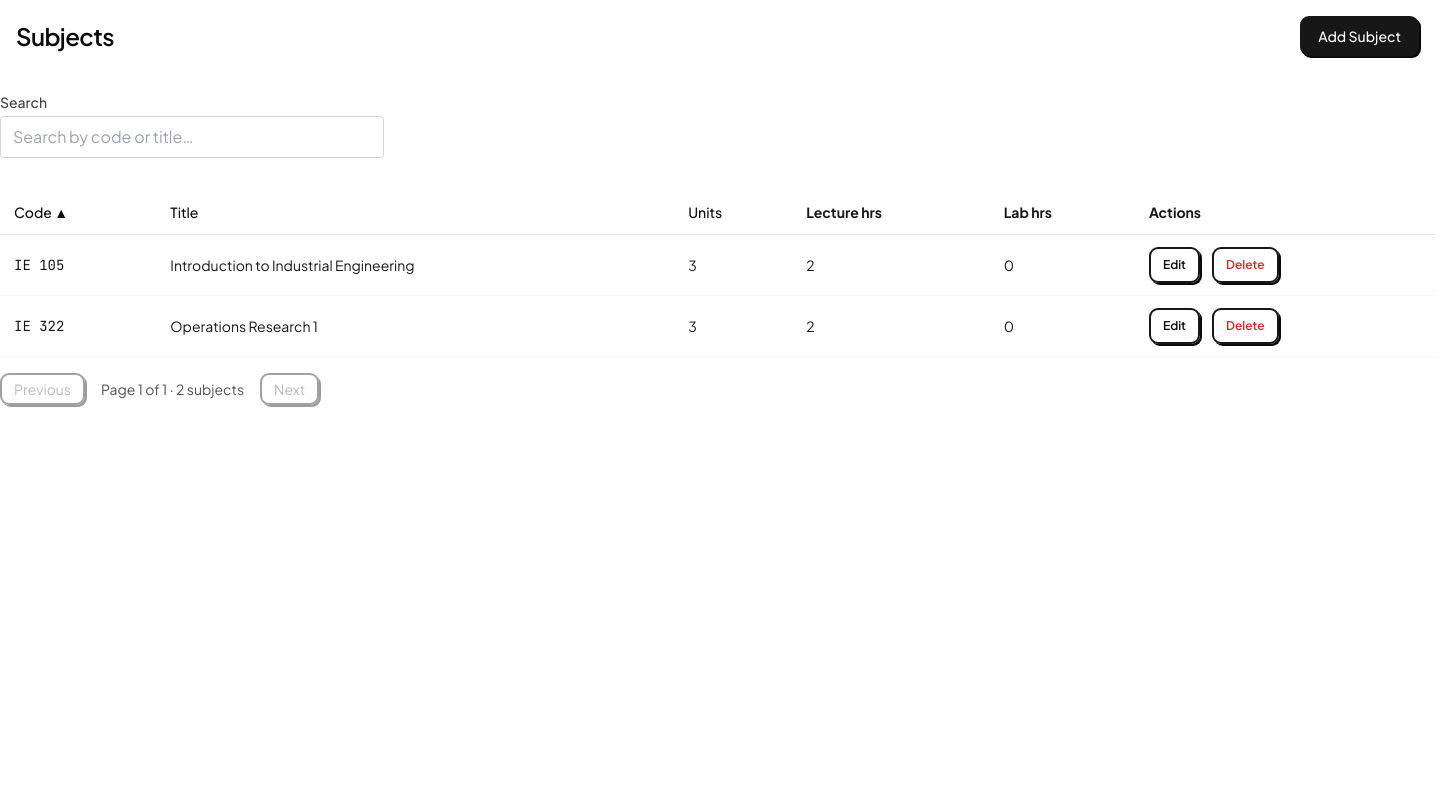
Scenario: SubjectsPage — edit › pre-fills the modal and saves edits in place
Click the button "Edit" in the row of "IE 105" at (1174, 265), box [1149,247,1200,283]
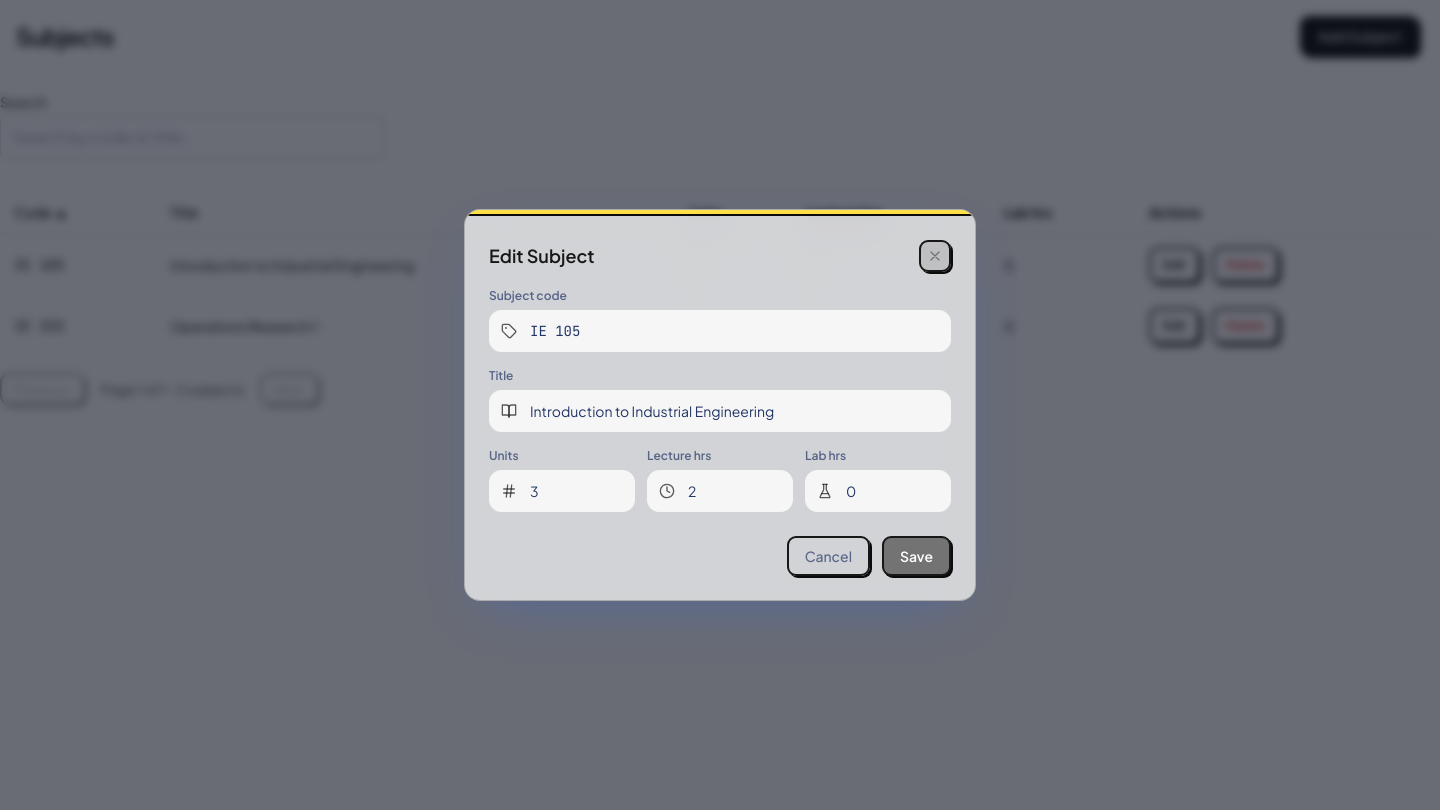
Result: the dialog shows "Edit Subject" at [489,244,595,267]
Result: the field labelled "Title" holds "Introduction to Industrial Engineering"
Replace the text in the field labelled "Title" with "Intro to IE" at (720, 411), box [489,390,951,432]
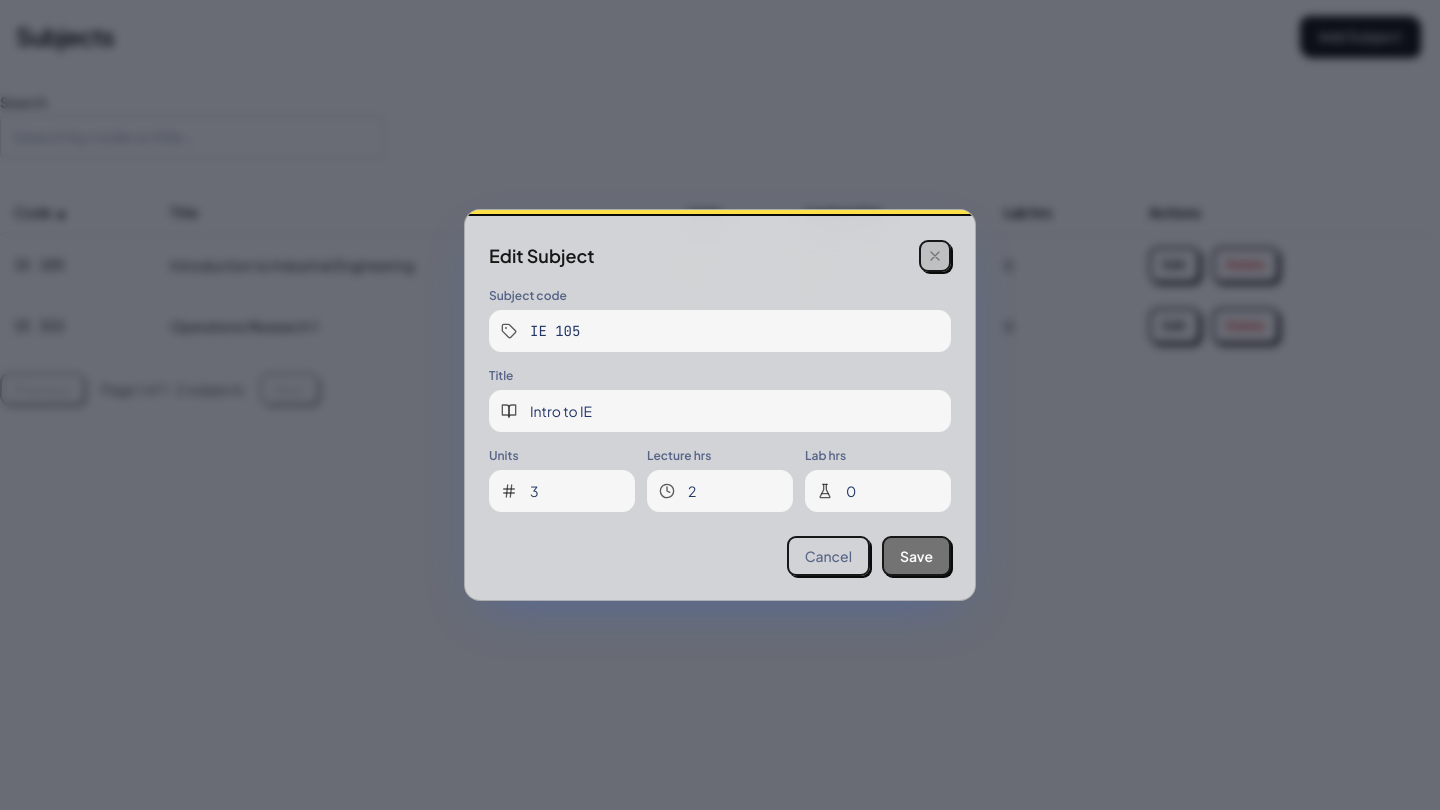
Click the button "Save" at (916, 556), box [882,536,951,576]
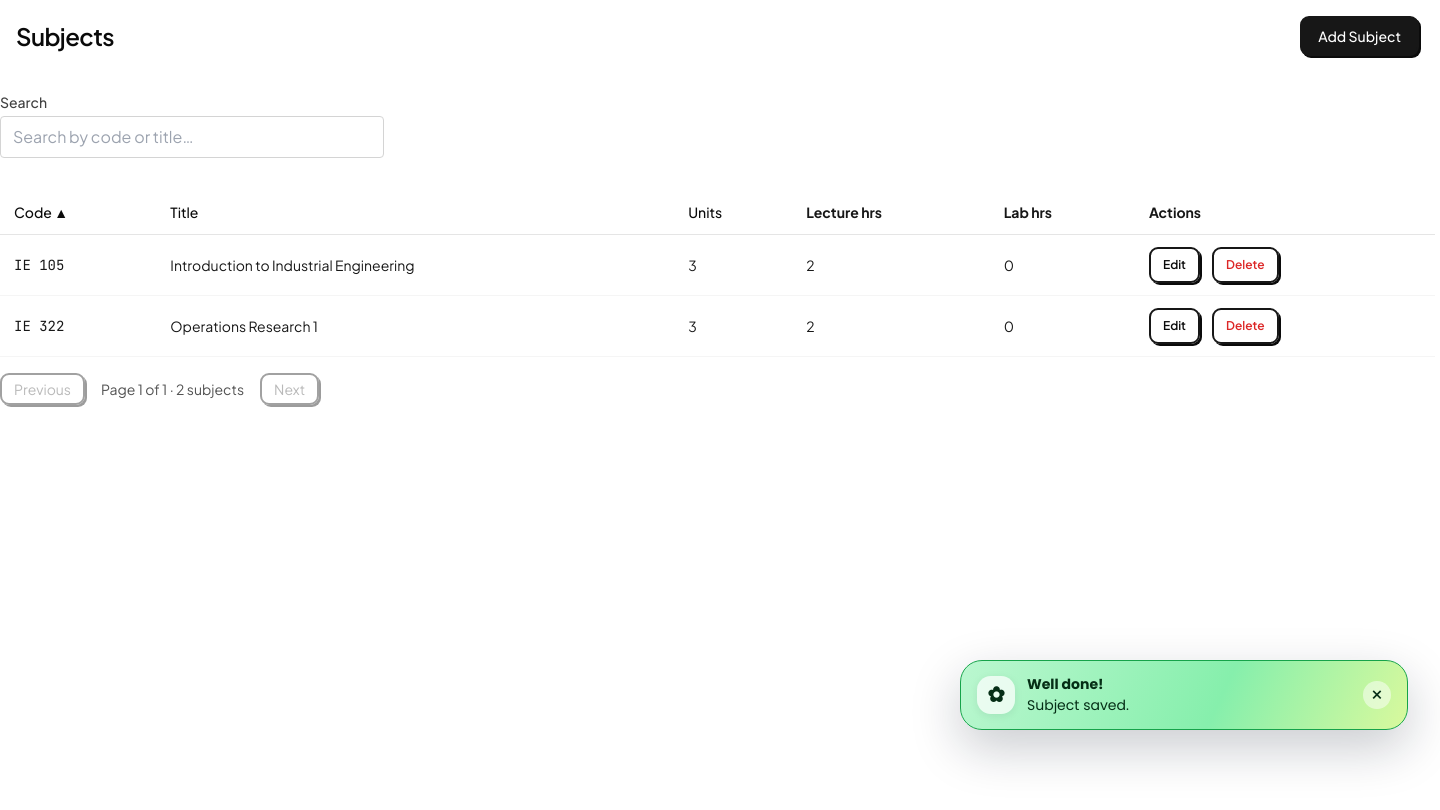
Result: the text "Subject saved." is shown at [1027,695,1129,715]
